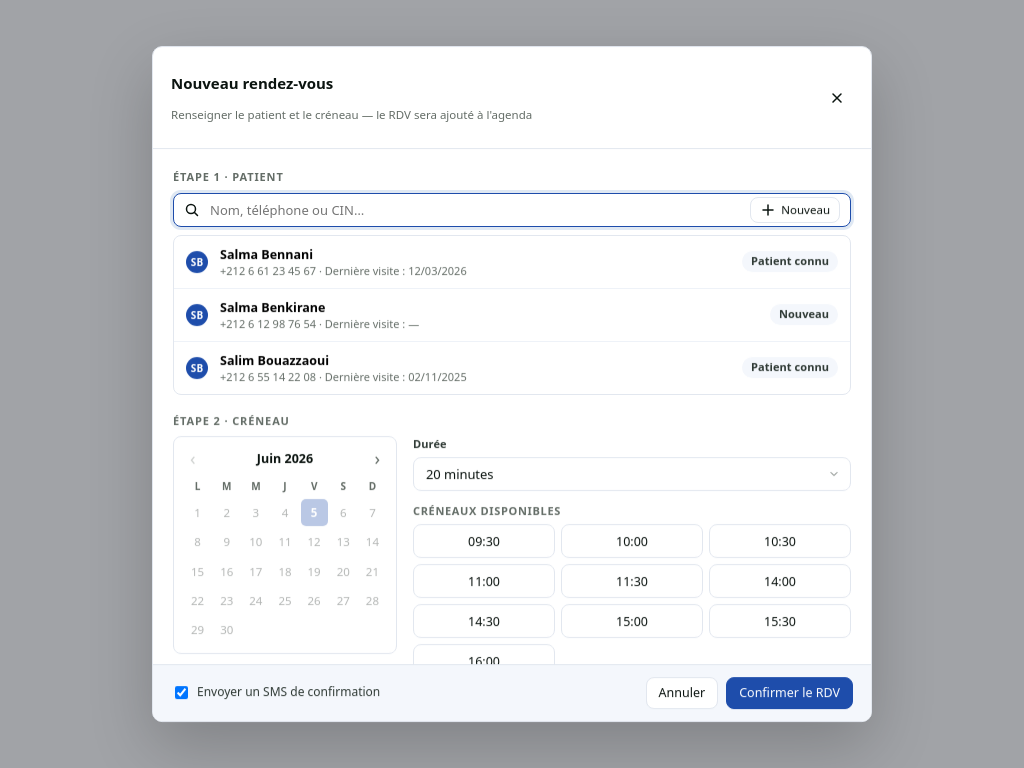
Test case: <PriseRDVDialog /> › selecting a candidate shows the selected patient card
Click the option "Salma Bennani": x=267, y=254 [174,236,850,289]
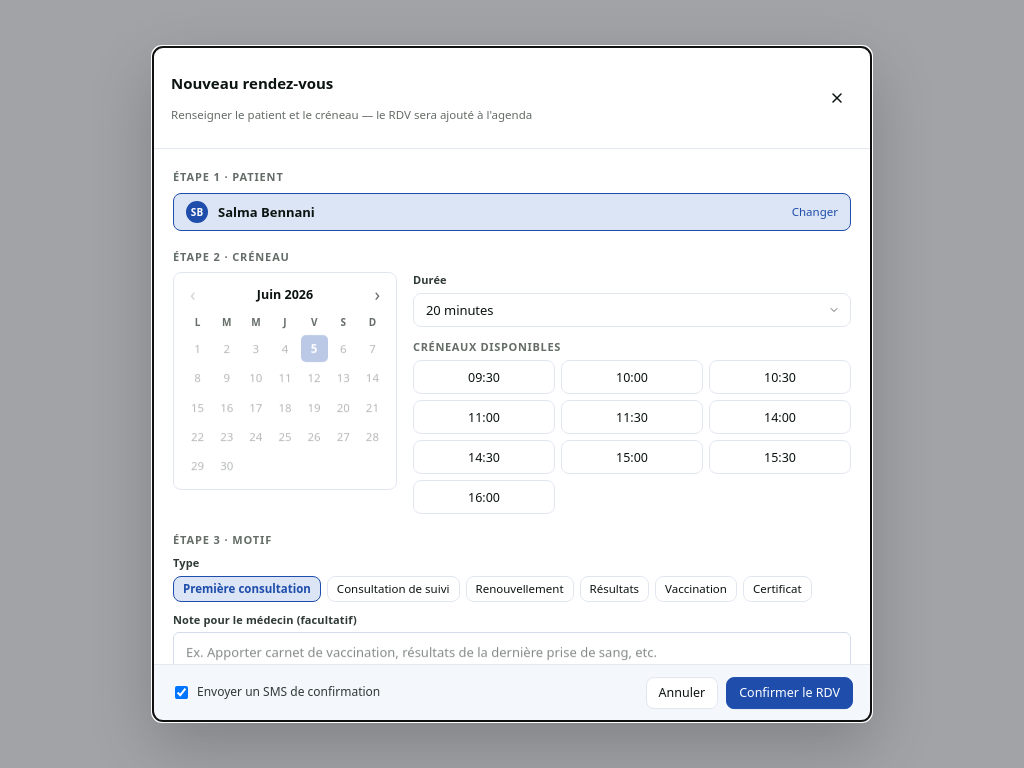
Expected: the text "Salma Bennani" is shown, [218,203,315,221]
Result: the button "Changer" is shown at [792,204,838,219]
